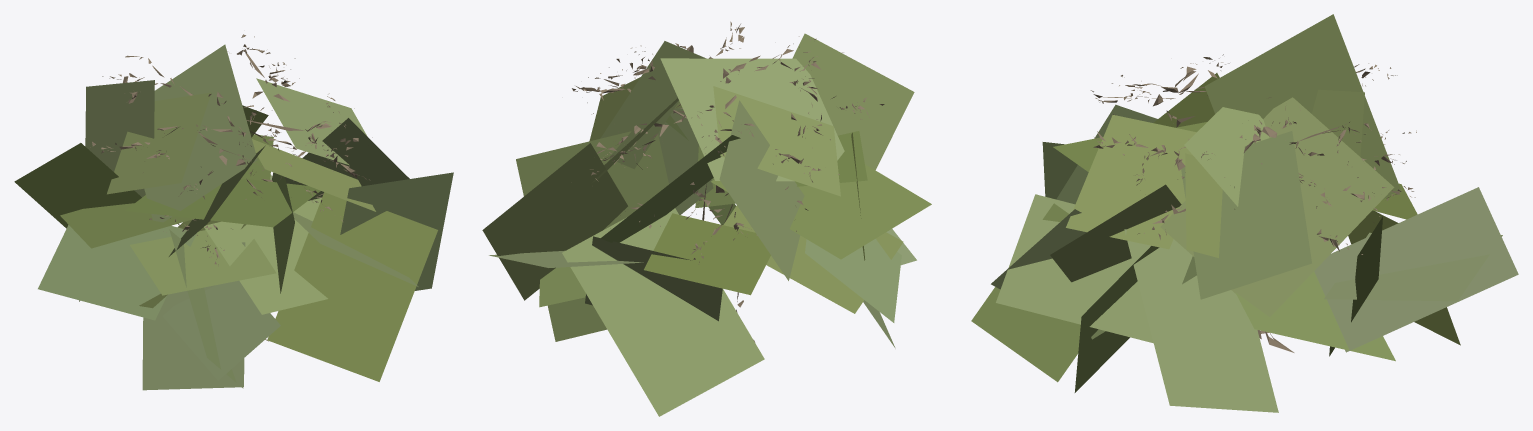
File: shrub_redwood_a.glb
3 views of the same model, side by side, from view 1: azimuth 30°, elevation 25°; view 2: azimuth 150°, elevation 25°; view 3: azimuth 270°, elevation 25° (orthographic). The views are drawn at different scales.
Visible parts, largest first — view 1: leaves, wood; view 2: leaves, wood; view 3: leaves, wood.
Part boxes in pixels (box(x1,y1,x2,y2)): leaves: box(14, 44, 453, 390); wood: box(90, 34, 372, 341); leaves: box(482, 33, 931, 416); wood: box(571, 21, 884, 342); leaves: box(971, 14, 1518, 412); wood: box(1090, 54, 1416, 352).
Bounding box in the file's own units: 1.79 × 1.46 × 2.06.
